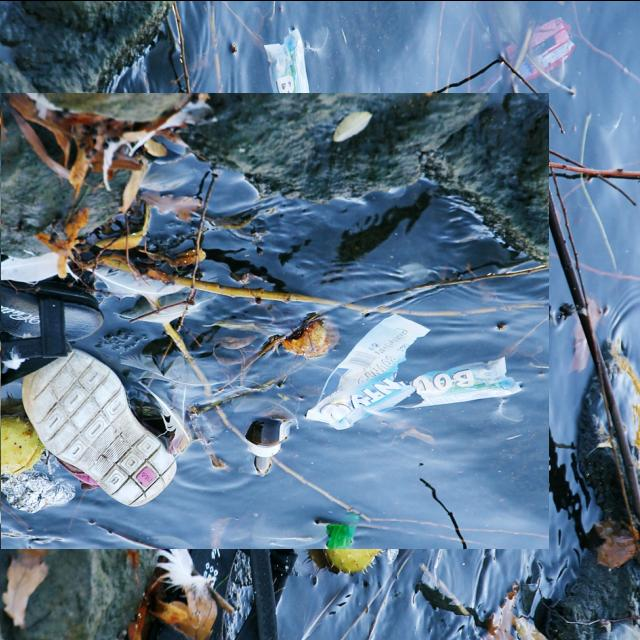garbage: (0, 45, 503, 594)
